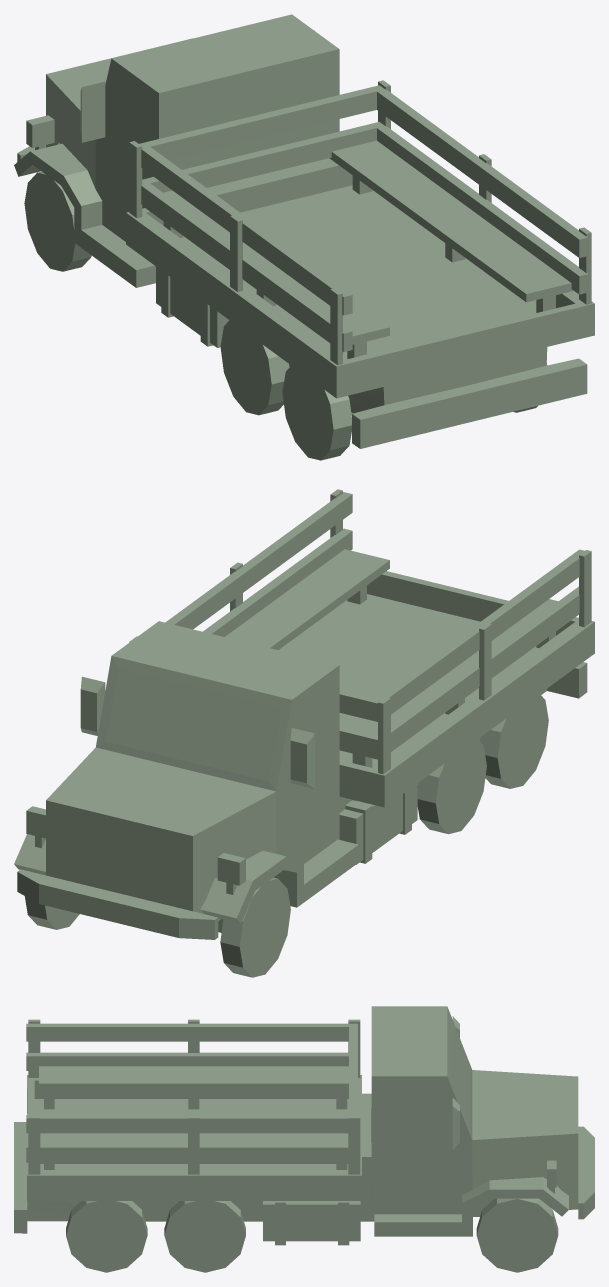
File: truck_troop.fbx
3 renders of one model, top to bottom at view 1: azimuth 30°, elevation 25°; view 2: azimuth 150°, elevation 25°; view 3: azimuth 270°, elevation 25°, orthographic. The views are drawn at different scales.
Visible parts, largest first — view 1: truck_troop, wheel_fl2, wheel_fl1, wheel_fl; view 2: truck_troop, wheel_fl, wheel_fl1, wheel_fl2, wheel_fr; view 3: truck_troop, wheel_fr, wheel_fr1, wheel_fr2.
Boxes of the visible parts, x1,y1,x2,y2 form: truck_troop: (14,14,594,448); wheel_fl2: (282,365,351,460); wheel_fl1: (220,320,289,415); wheel_fl: (24,171,91,271); truck_troop: (14,489,594,939); wheel_fl: (220,877,290,977); wheel_fl1: (417,739,486,834); wheel_fl2: (480,694,548,788); wheel_fr: (24,896,79,929); truck_troop: (14,1006,594,1245); wheel_fr: (476,1198,558,1272); wheel_fr1: (164,1201,245,1272); wheel_fr2: (66,1201,147,1272).
Bounding box in the file's own units: 4.42 × 3.9 × 10.81.
